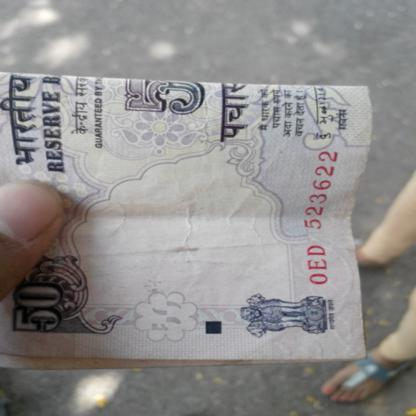Old50Front: (0, 69, 375, 370)
